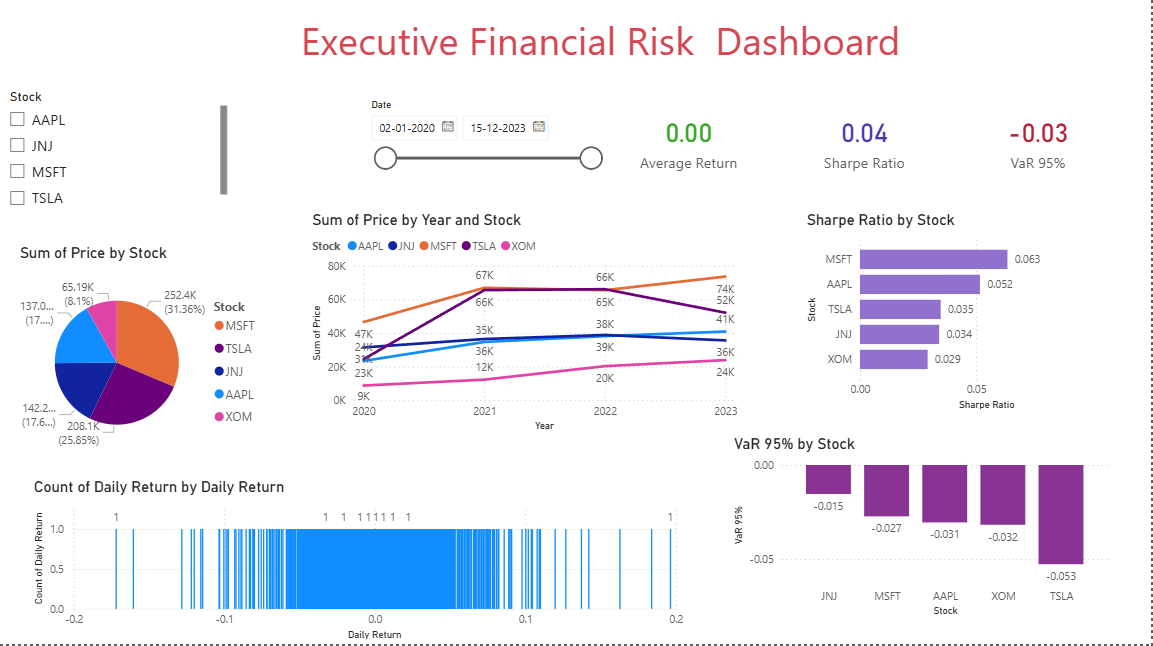

What the dashboard file says about the page in this screenshot:
{"tool":"powerbi","page":{"name":"Page 2","canvas":[1280,720],"ordinal":1},"visuals":[{"type":"card","fields":{"Values":["stock_data.Average Return"]},"box":[676.5,97.4,179.4,124.7],"z":0},{"type":"card","fields":{"Values":["stock_data.Sharpe Ratio"]},"box":[855.8,97.4,211.8,124.7],"z":1000},{"type":"card","fields":{"Values":["stock_data.VaR 95%"]},"box":[1072.8,109.3,165.7,102.5],"z":2000},{"type":"lineChart","fields":{"Category":["stock_data.Date.Variation.Date Hierarchy.Year","stock_data.Date.Variation.Date Hierarchy.Quarter","stock_data.Date.Variation.Date Hierarchy.Month","stock_data.Date.Variation.Date Hierarchy.Day"],"Y":["Sum(stock_data.Price)"],"Series":["stock_data.Stock"]},"box":[343.4,239.2,481.7,249.4],"z":3000},{"type":"clusteredBarChart","fields":{"Category":["stock_data.Stock"],"Y":["stock_data.Sharpe Ratio"]},"box":[892.2,239.2,362.7,225.5],"z":4000},{"type":"clusteredColumnChart","fields":{"Category":["stock_data.Stock"],"Y":["stock_data.VaR 95%"]},"box":[811.8,488.2,425.5,205.9],"z":5000},{"type":"slicer","fields":{"Values":["stock_data.Stock"]},"box":[0,97.4,259.7,148.6],"z":6000},{"type":"slicer","fields":{"Values":["stock_data.Date"]},"box":[401.4,109.3,280.2,102.5],"z":7000},{"type":"pieChart","fields":{"Category":["stock_data.Stock"],"Y":["Sum(stock_data.Price)"]},"box":[18.8,275,280.2,244.3],"z":8000},{"type":"clusteredColumnChart","fields":{"Category":["stock_data.Daily Return"],"Y":["Count(stock_data.Daily Return)"]},"box":[35.3,535.3,731.4,184.3],"z":9000},{"type":"textbox","box":[100,14,1138.6,84.2],"z":10000}]}

Visuals, with their boxes in screenshot pixels (x1, y1, x2, y2), scaled from the page's 1280x720 canvas onto the 1153x646 screenshot:
card - stock_data.Average Return: [609, 87, 771, 199]
card - stock_data.Sharpe Ratio: [771, 87, 962, 199]
card - stock_data.VaR 95%: [966, 98, 1116, 190]
lineChart - stock_data.Date.Variation.Date Hierarchy.Year x stock_data.Date.Variation.Date Hierarchy.Quarter: [309, 215, 743, 438]
clusteredBarChart - stock_data.Stock x stock_data.Sharpe Ratio: [804, 215, 1130, 417]
clusteredColumnChart - stock_data.Stock x stock_data.VaR 95%: [731, 438, 1115, 623]
slicer - stock_data.Stock: [0, 87, 234, 221]
slicer - stock_data.Date: [362, 98, 614, 190]
pieChart - stock_data.Stock x Sum(stock_data.Price): [17, 247, 269, 466]
clusteredColumnChart - stock_data.Daily Return x Count(stock_data.Daily Return): [32, 480, 691, 645]
textbox: [90, 13, 1116, 88]
